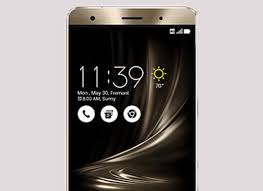asus: (66, 1, 200, 191)
